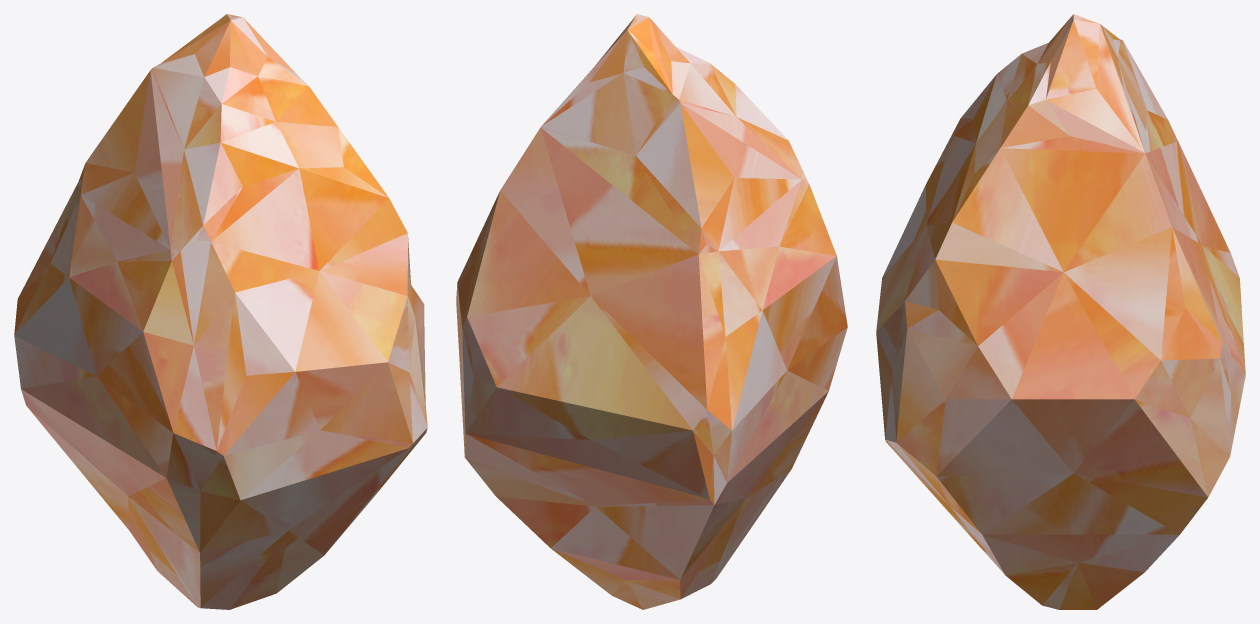
File: Checkpoint.fbx
3 views of the same model, side by side, from view 1: azimuth 30°, elevation 25°; view 2: azimuth 150°, elevation 25°; view 3: azimuth 270°, elevation 25° (orthographic).
Visible parts, largest first — view 1: Icosphere.033; view 2: Icosphere.033; view 3: Icosphere.033.
Part boxes in pixels (x1,y1,x2,y2): Icosphere.033: (14,14,427,609); Icosphere.033: (456,14,847,609); Icosphere.033: (876,14,1245,609).
Size of the model in its own units: 157 by 281 by 158.
